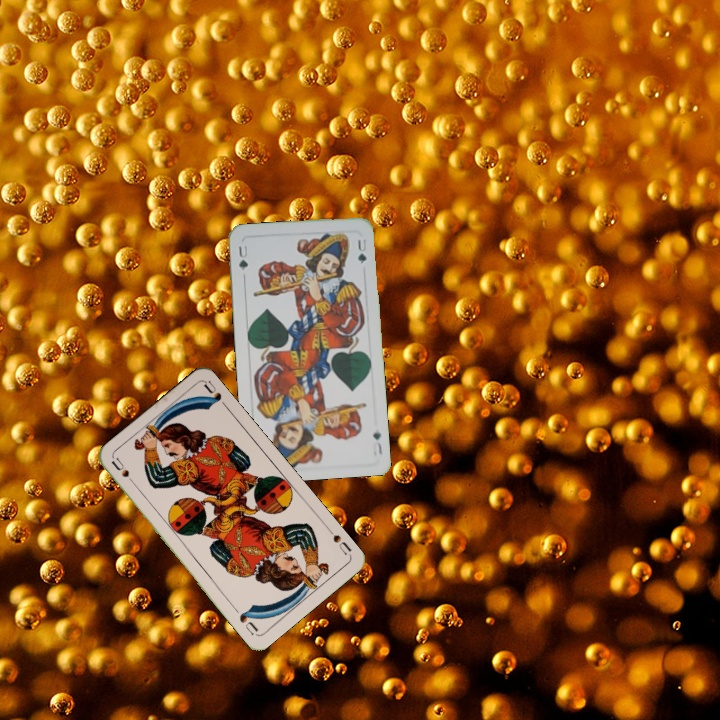GU: (234, 241, 251, 273), (369, 427, 384, 458)
SU: (108, 454, 140, 490), (323, 524, 354, 558)
